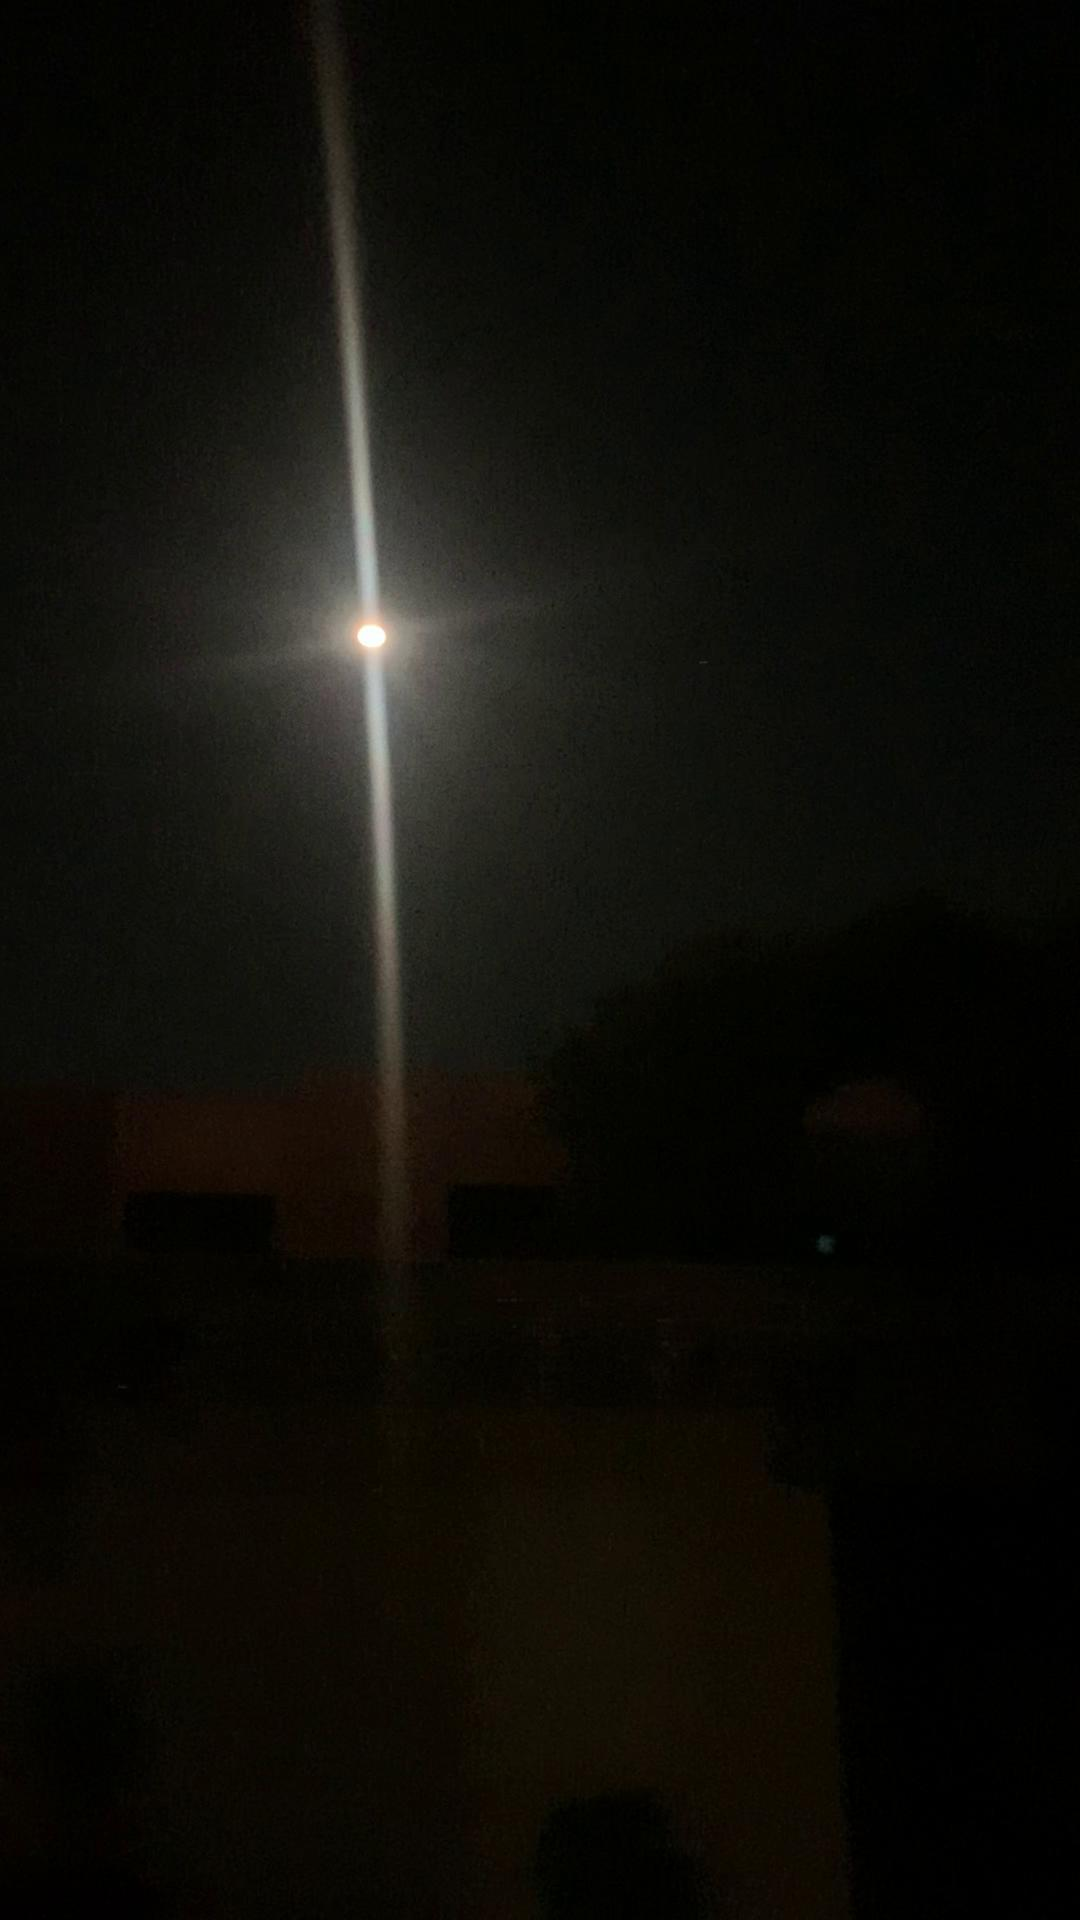moon: (338, 595, 413, 674)
